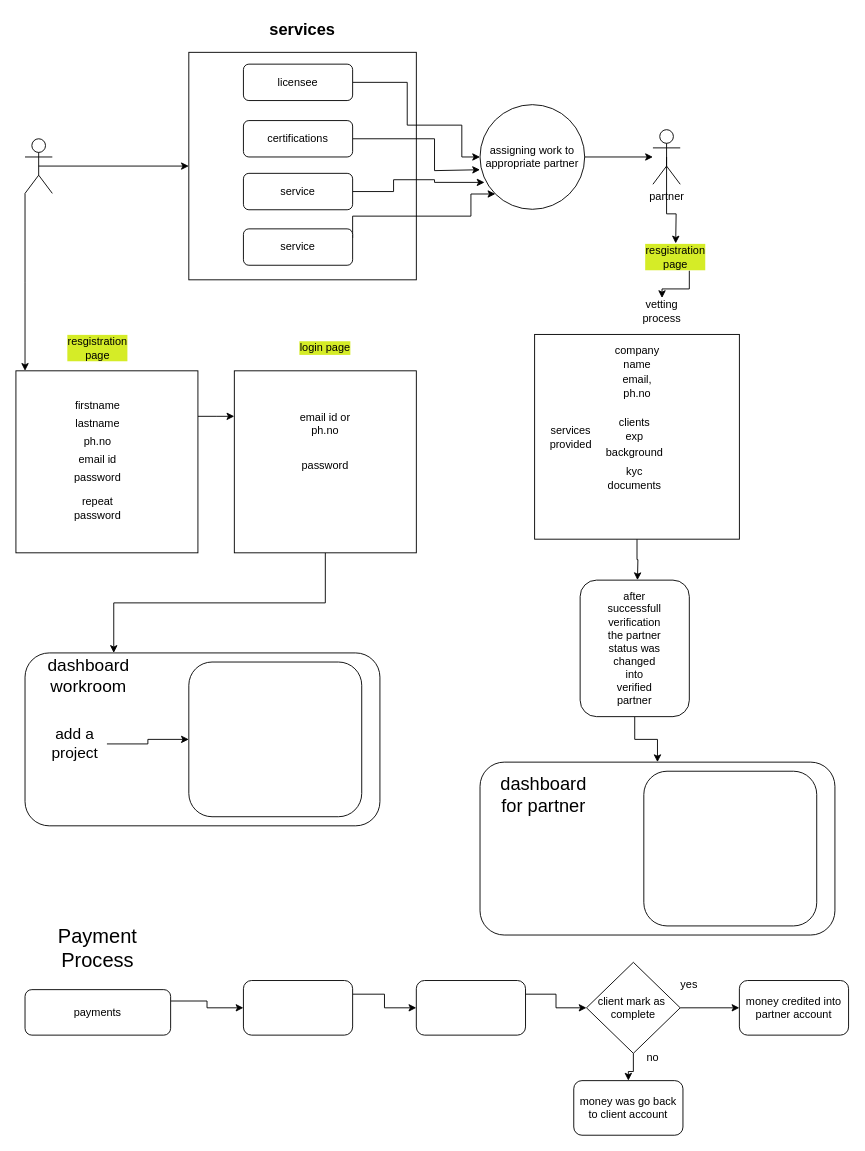
Image size: 865x1151. Some labels were removed from this diagram. Here are the shapes that lost their labels. From the top down, the centre of each, then its label:
At (x=38, y=165): "client".
At (x=275, y=739): "project requirements form".
At (x=730, y=848): "communicate to cleints and manage all projects".
At (x=298, y=1007): "escrow account".
At (x=470, y=1007): "after project completed".
